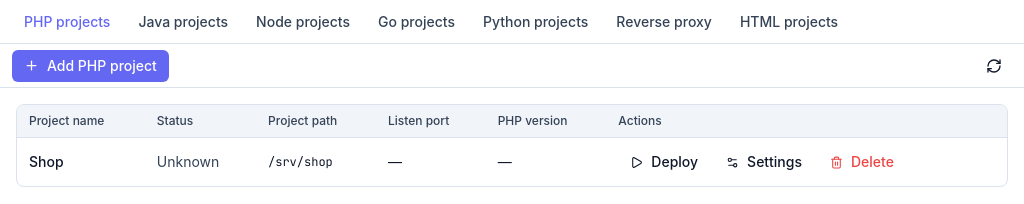
it: Deployment project tabs (en-US) › starts on PHP and only lists apps of the selected type
Expected: the text "Edge" is not shown
Click the tab "Reverse proxy": (664, 22) [604, 6, 724, 38]
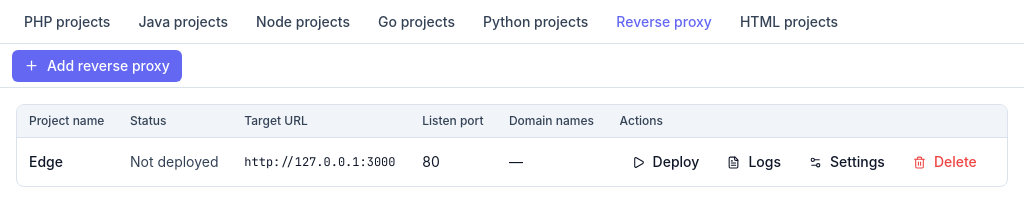
Expected: the text "Edge" is shown, [17, 138, 118, 186]
Expected: the text "Shop" is gone
